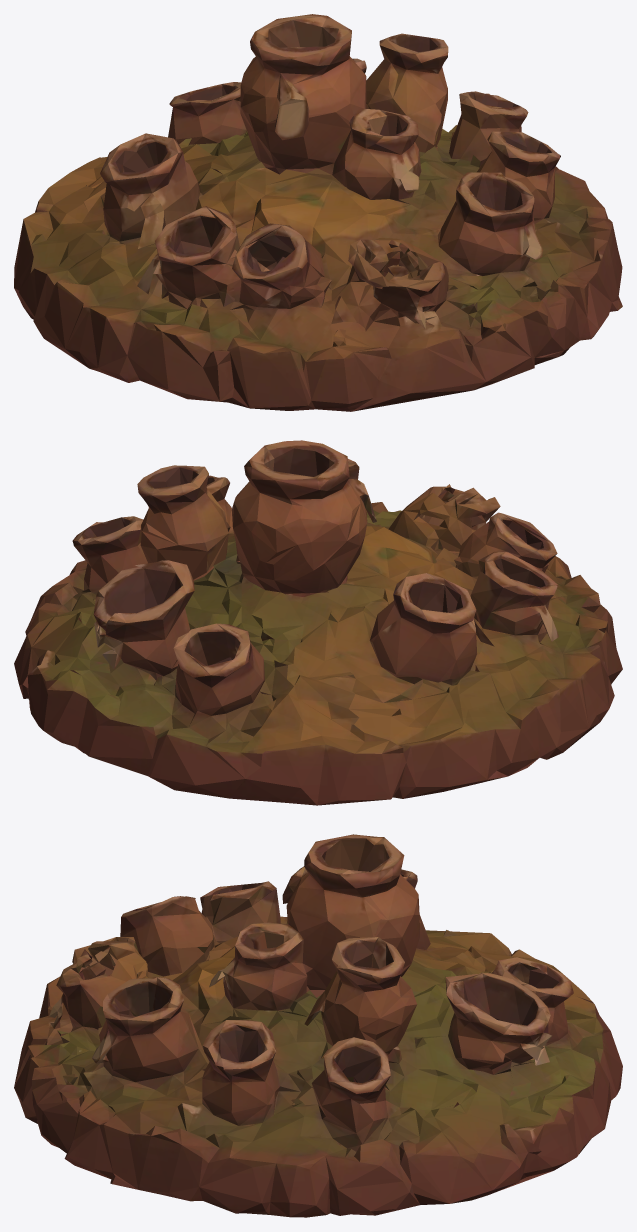
The model's file is pot_mound.glb.
3 views of the same model, one above another, from view 1: azimuth 30°, elevation 25°; view 2: azimuth 150°, elevation 25°; view 3: azimuth 270°, elevation 25° (orthographic).
Visible parts, largest first — view 1: geometry_0; view 2: geometry_0; view 3: geometry_0.
Part boxes in pixels (<box>): geometry_0: <box>14,14,622,411</box>; geometry_0: <box>14,440,622,805</box>; geometry_0: <box>14,834,622,1217</box>.
Bounding box in the file's own units: 1.99 × 0.852 × 1.97.
Materials: 1 (1 with a texture image).
